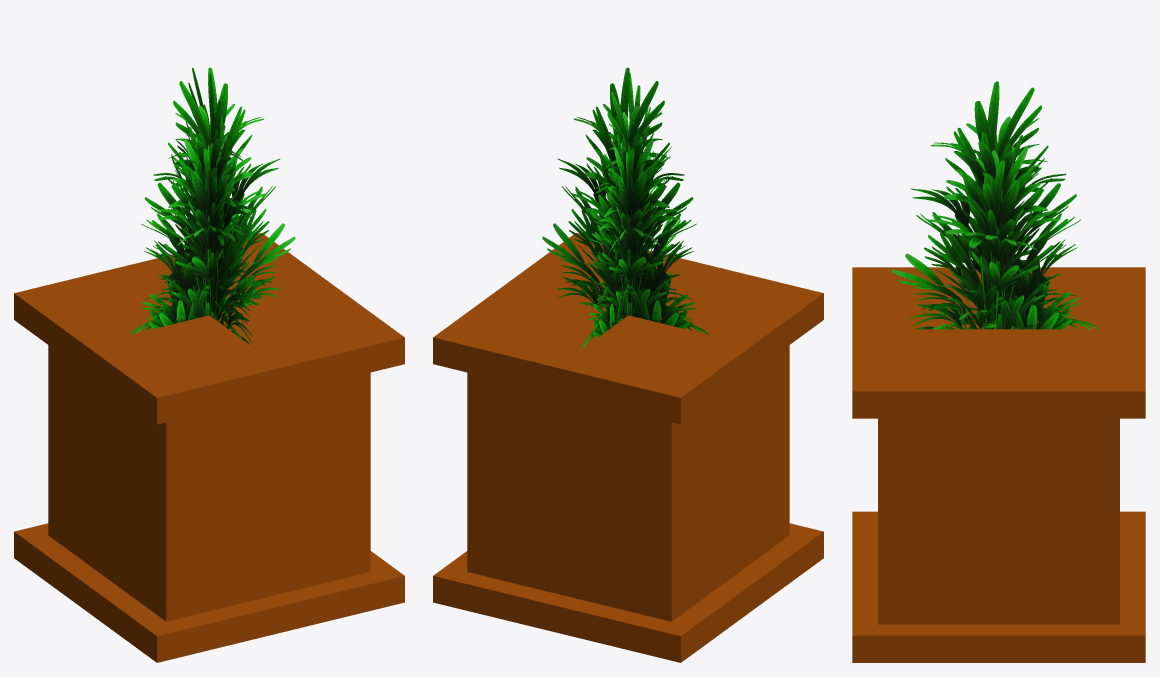
The model's file is vase.fbx.
The picture shows the model from 3 angles, left to right: view 1: azimuth 30°, elevation 25°; view 2: azimuth 150°, elevation 25°; view 3: azimuth 270°, elevation 25°; orthographic projection. The views are drawn at different scales.
Visible parts, largest first — view 1: Vase, Plant; view 2: Vase, Plant; view 3: Vase, Plant.
Boxes of the visible parts, x1,y1,x2,y2 form: Vase: [14, 233, 404, 662]; Plant: [128, 67, 295, 344]; Vase: [433, 233, 823, 662]; Plant: [542, 67, 709, 350]; Vase: [852, 267, 1145, 662]; Plant: [892, 81, 1099, 329].
Size of the model in its own units: 243 by 494 by 243.
